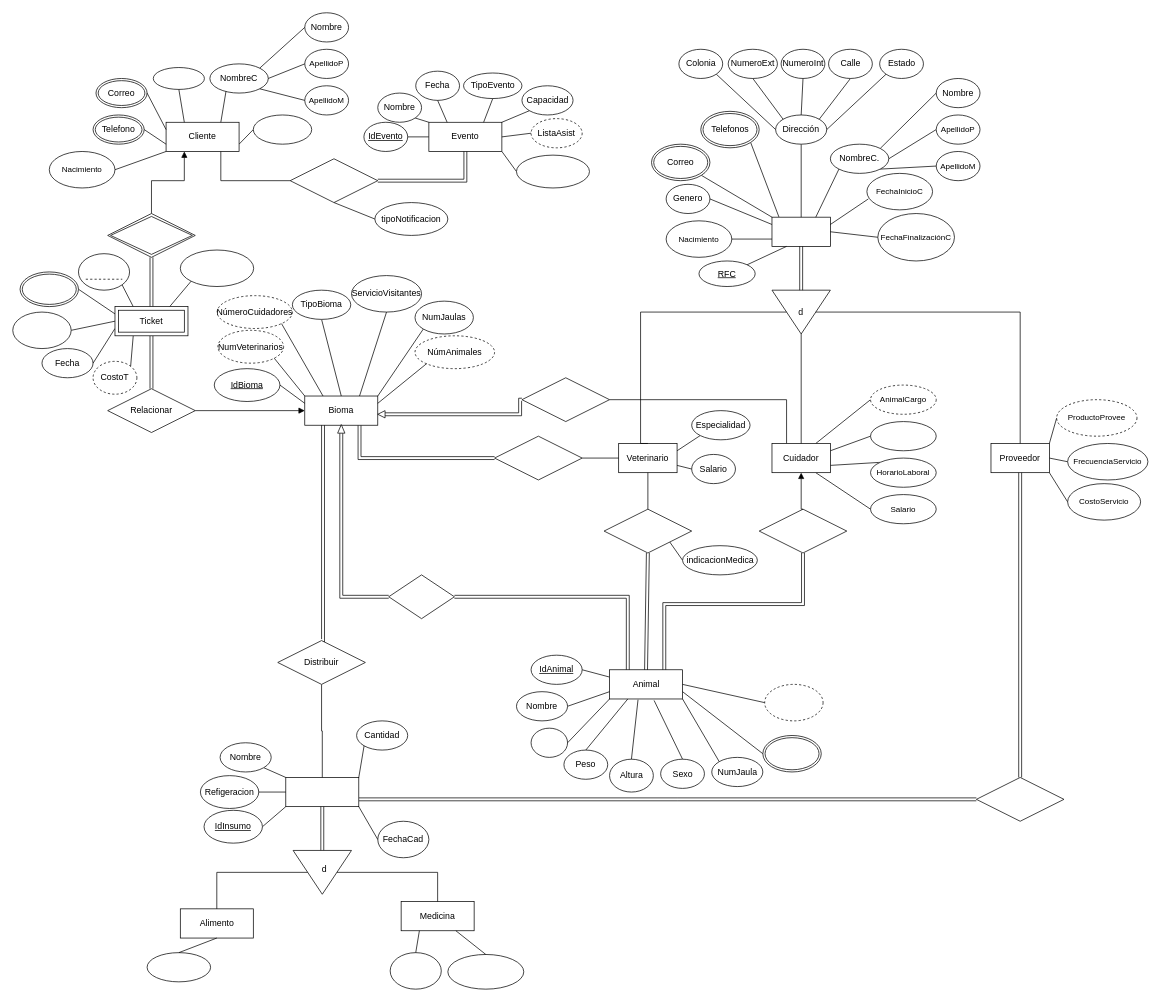
This 1161x1002 diagram has some shape labels left out. Here are the shapes that lost their labels. From the top down, the centre of each, then its label:
the point at 178,78: Género
the point at 282,129: IdCliente
the point at 333,180: Asistir
the point at 552,171: NumAsistentes
the point at 151,235: Adjuntar
the point at 800,231: Trabajador
the point at 104,271: NumTicket
the point at 217,268: PorcentajeDesc
the point at 48,289: TipoServicio
the point at 41,330: CostoParcial
the point at 565,399: Laborar
the point at 903,436: DiasTrabajo
the point at 538,457: Trabajar
the point at 647,530: Atender
the point at 802,530: Cuidar
the point at 421,596: Habitar
the point at 793,702: IndMedica
the point at 549,742: Especie
the point at 791,753: Alimentacion
the point at 322,792: Insumo
the point at 1020,799: Proveer
the point at 178,967: TipoAlimento
the point at 415,970: Lote
the point at 485,971: LabProcedencia
